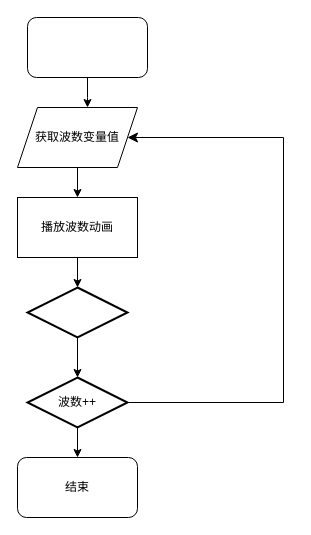
This 311x535 diagram has some shape labels left out. Each missing label, with the centre of its shape:
"开始" belongs at point 87,47.
"释放对象池敌人" belongs at point 77,312.
